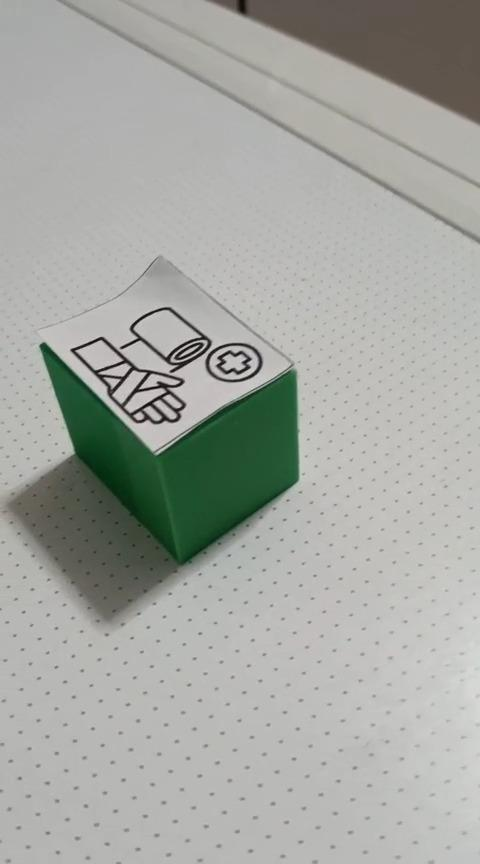Bandages: (35, 253, 300, 565)
